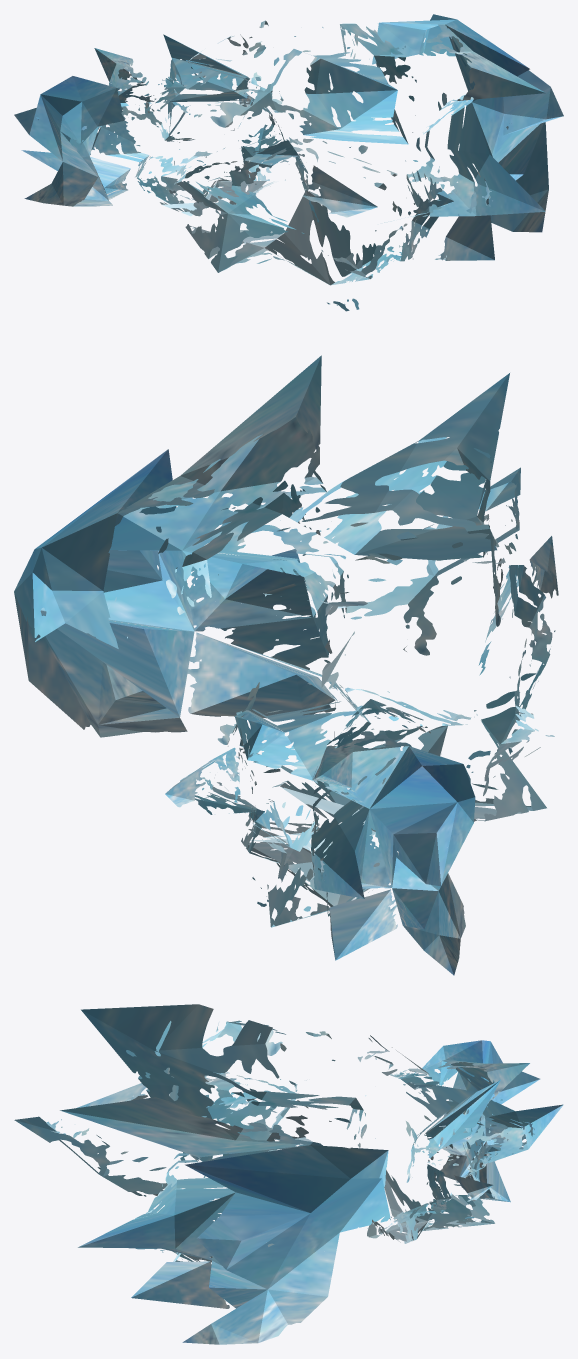
Rendered from wolverine_rtcalf_ice.glb.
The picture shows the model from 3 angles, top to bottom: view 1: azimuth 30°, elevation 25°; view 2: azimuth 150°, elevation 25°; view 3: azimuth 270°, elevation 25°; orthographic projection. The views are drawn at different scales.
Parts seen in each view (by area): view 1: wolverine_rtcalf_ice_0; view 2: wolverine_rtcalf_ice_0; view 3: wolverine_rtcalf_ice_0.
Boxes of the visible parts, x1,y1,x2,y2 form: wolverine_rtcalf_ice_0: [14, 14, 563, 311]; wolverine_rtcalf_ice_0: [14, 355, 558, 975]; wolverine_rtcalf_ice_0: [14, 1004, 563, 1344].
Size of the model in its own units: 16.31 by 10.06 by 18.39.
Materials: 1 (1 with a texture image).
